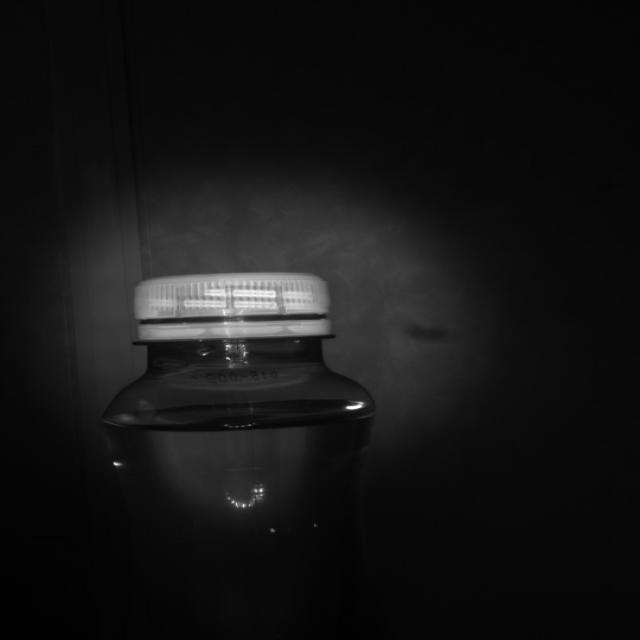Not Good: (135, 272, 333, 346)
